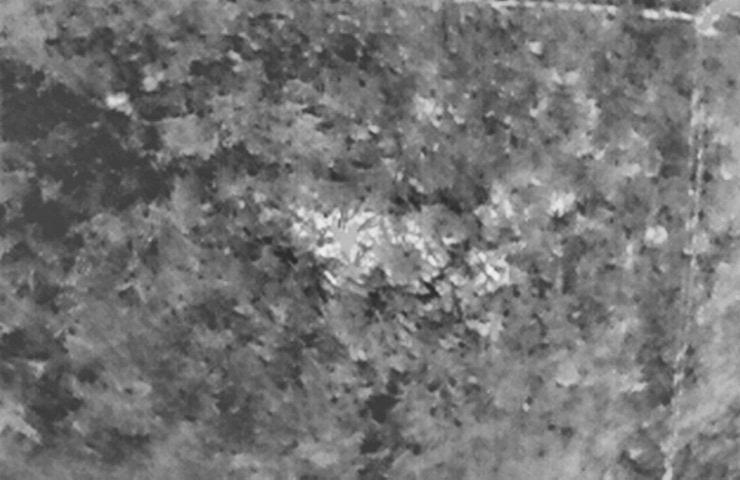landmines: (301, 204, 411, 284)
